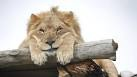lion: (21, 11, 122, 75)
